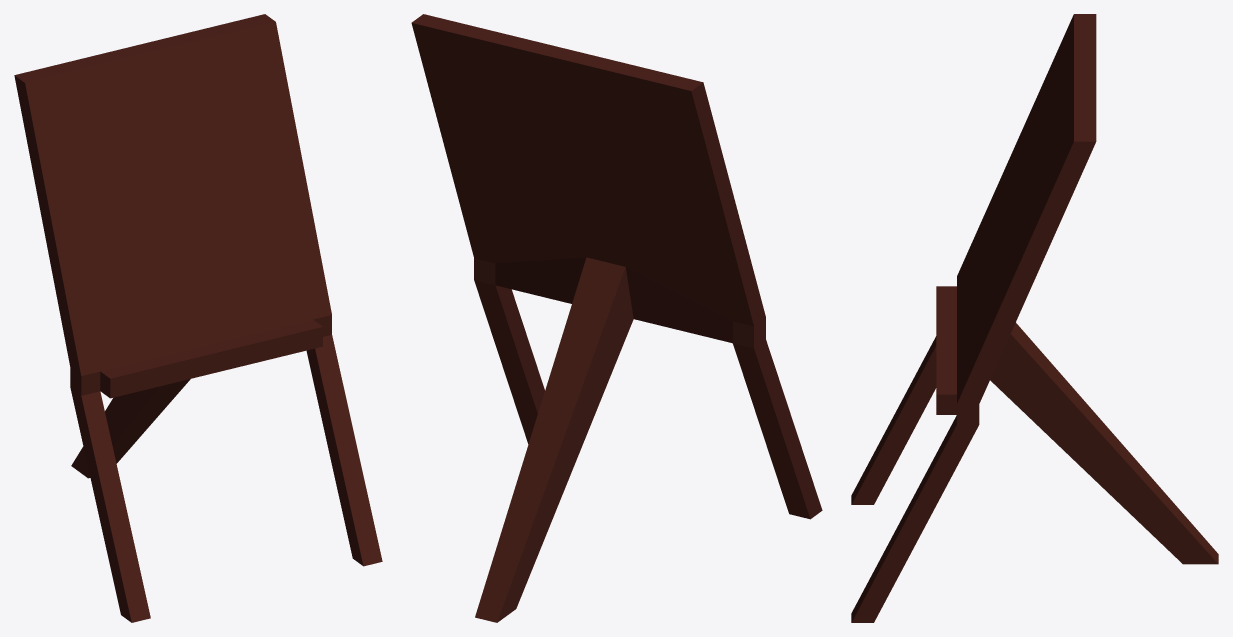
File: dianaestante.fbx
The picture shows the model from 3 angles, left to right: view 1: azimuth 30°, elevation 25°; view 2: azimuth 150°, elevation 25°; view 3: azimuth 270°, elevation 25°; orthographic projection. The views are drawn at different scales.
Visible parts, largest first — view 1: Cube.012; view 2: Cube.012; view 3: Cube.012.
Boxes of the visible parts, x1,y1,x2,y2 form: Cube.012: (14,14,382,622); Cube.012: (411,14,822,622); Cube.012: (851,14,1218,622).
Bounding box in the file's own units: 34.25 × 60.25 × 41.64.
